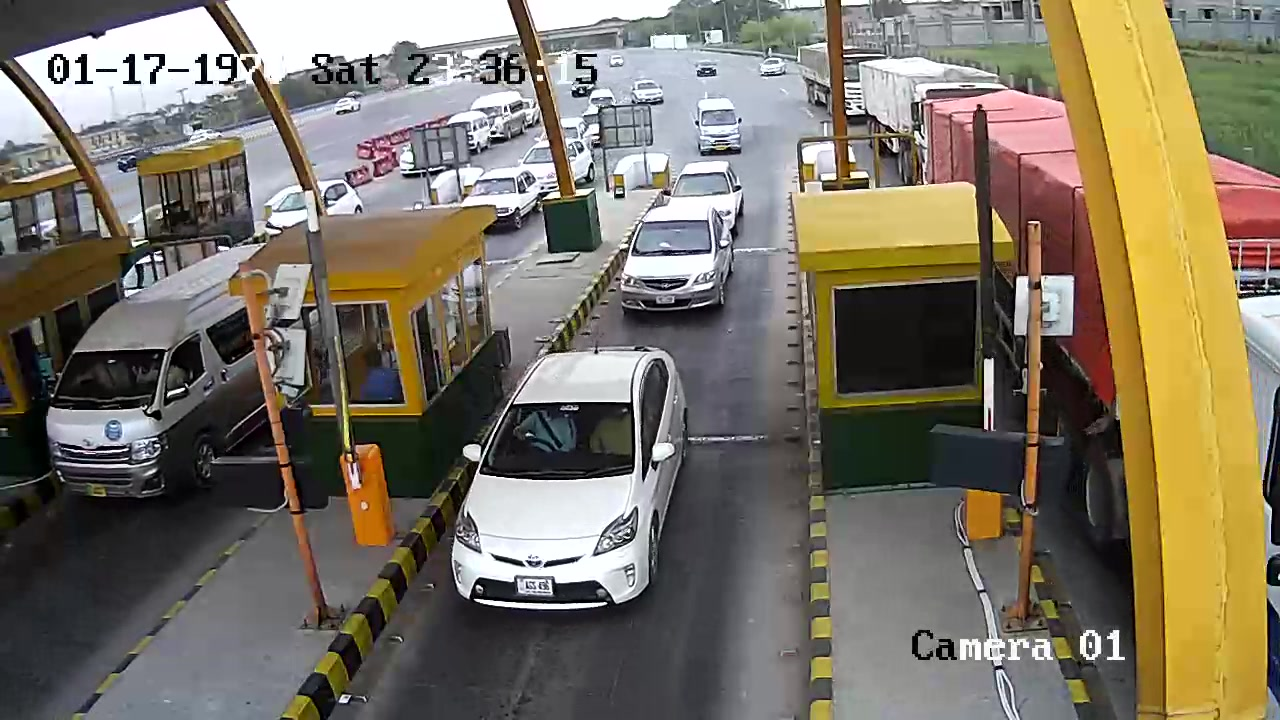F1: (449, 342, 707, 610), (613, 201, 740, 330)
